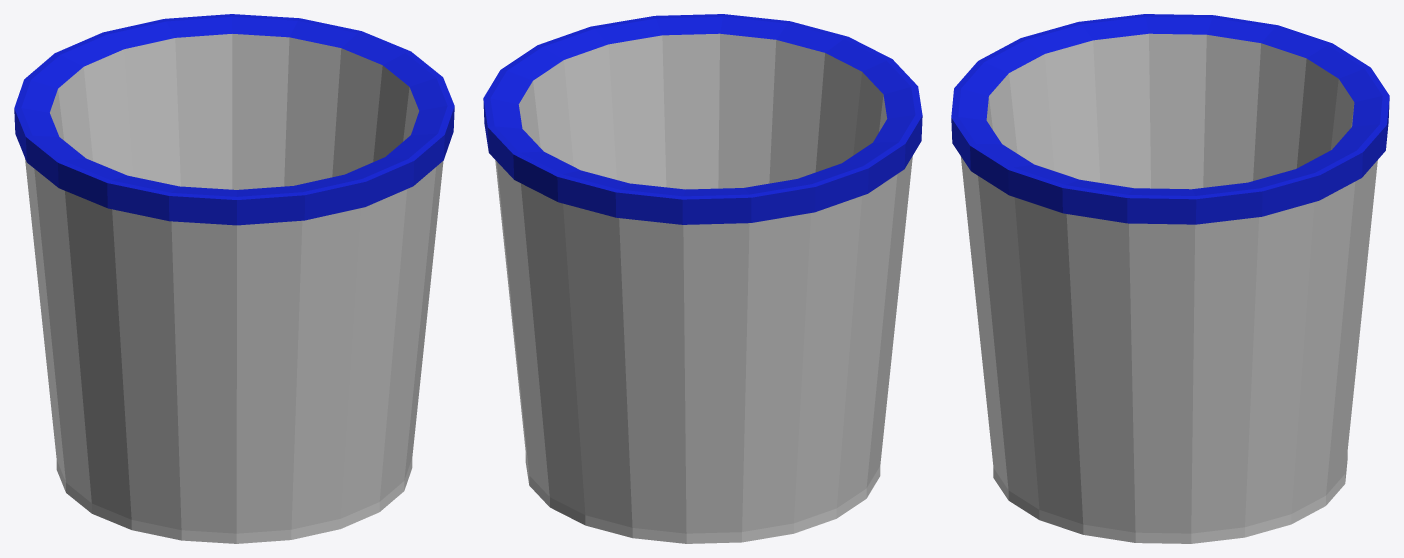
File: Bucket.fbx
3 views of the same model, side by side, from view 1: azimuth 30°, elevation 25°; view 2: azimuth 150°, elevation 25°; view 3: azimuth 270°, elevation 25° (orthographic).
Parts seen in each view (by area): view 1: Plane; view 2: Plane; view 3: Plane.
Part boxes in pixels (left/top/right/bottom): Plane: left=14, top=14, right=454, bottom=543; Plane: left=483, top=14, right=922, bottom=543; Plane: left=951, top=14, right=1389, bottom=543.
Size of the model in its own units: 2.85 by 2.85 by 2.6.
